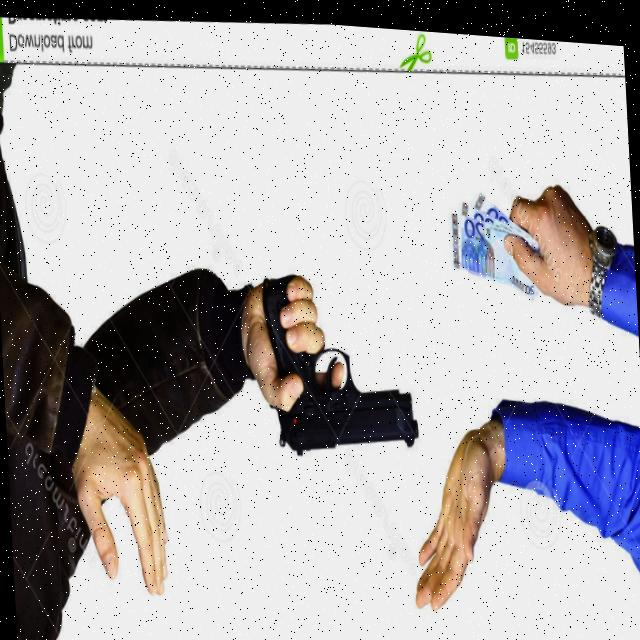pistol: (258, 258, 424, 461)
